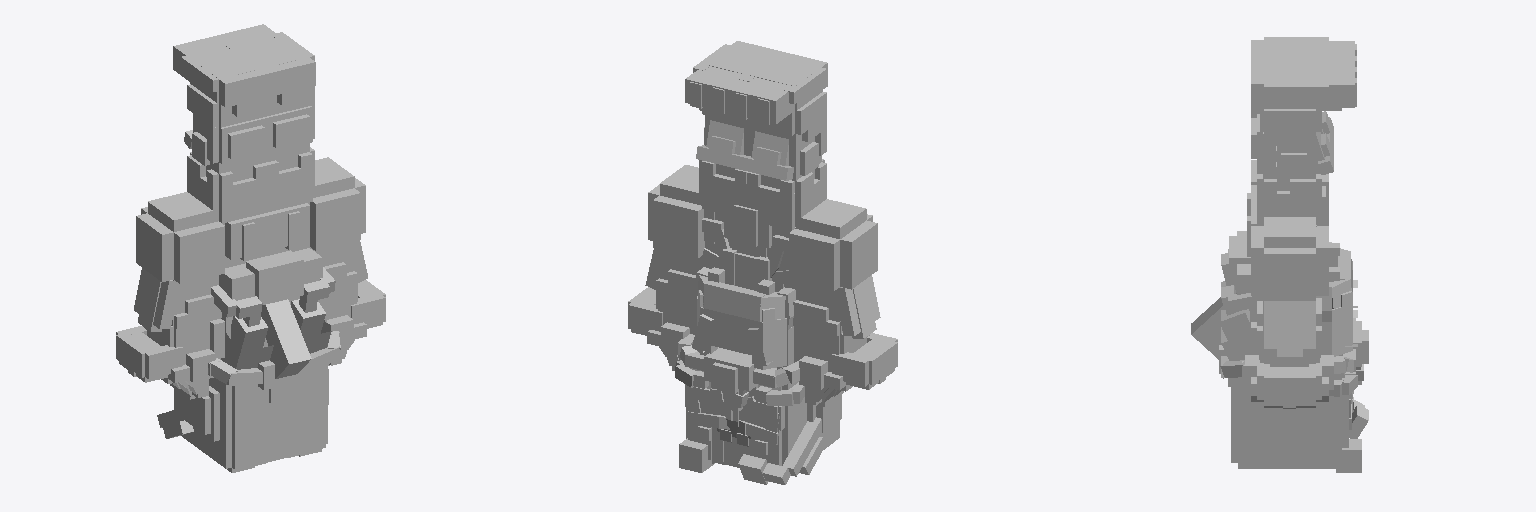
File: t60_armor.obj
3 renders of one model, left to right at view 1: azimuth 30°, elevation 25°; view 2: azimuth 150°, elevation 25°; view 3: azimuth 270°, elevation 25°, orthographic.
Parts seen in each view (by area): view 1: Body, RightArm, Head, LeftArm, RightLeg, LeftLeg, RightBoot, LeftBoot; view 2: RightArm, Head, Body, LeftArm, RightLeg, RightBoot, LeftLeg, LeftBoot; view 3: LeftArm, Head, Body, LeftLeg, LeftBoot, RightBoot.
Part boxes in pixels (x1,y1,x2,y2): Body: (210, 202, 335, 378); RightArm: (116, 192, 224, 399); Head: (157, 331, 341, 472); LeftArm: (310, 157, 385, 365); RightLeg: (184, 82, 266, 223); LeftLeg: (264, 86, 314, 212); RightBoot: (173, 35, 270, 116); LeftBoot: (219, 24, 315, 105); RightArm: (789, 199, 897, 406); Head: (675, 334, 841, 484); Body: (692, 205, 796, 369); LeftArm: (628, 165, 704, 370); RightLeg: (741, 92, 826, 230); RightBoot: (730, 52, 827, 124); LeftLeg: (696, 107, 749, 215); LeftBoot: (685, 41, 781, 113); LeftArm: (1245, 217, 1333, 413); Head: (1219, 318, 1368, 472); Body: (1191, 185, 1357, 380); LeftLeg: (1251, 108, 1333, 225); LeftBoot: (1251, 60, 1356, 113); RightBoot: (1251, 37, 1356, 66).
Bounding box in the file's own units: 21.6 × 32.76 × 13.61.